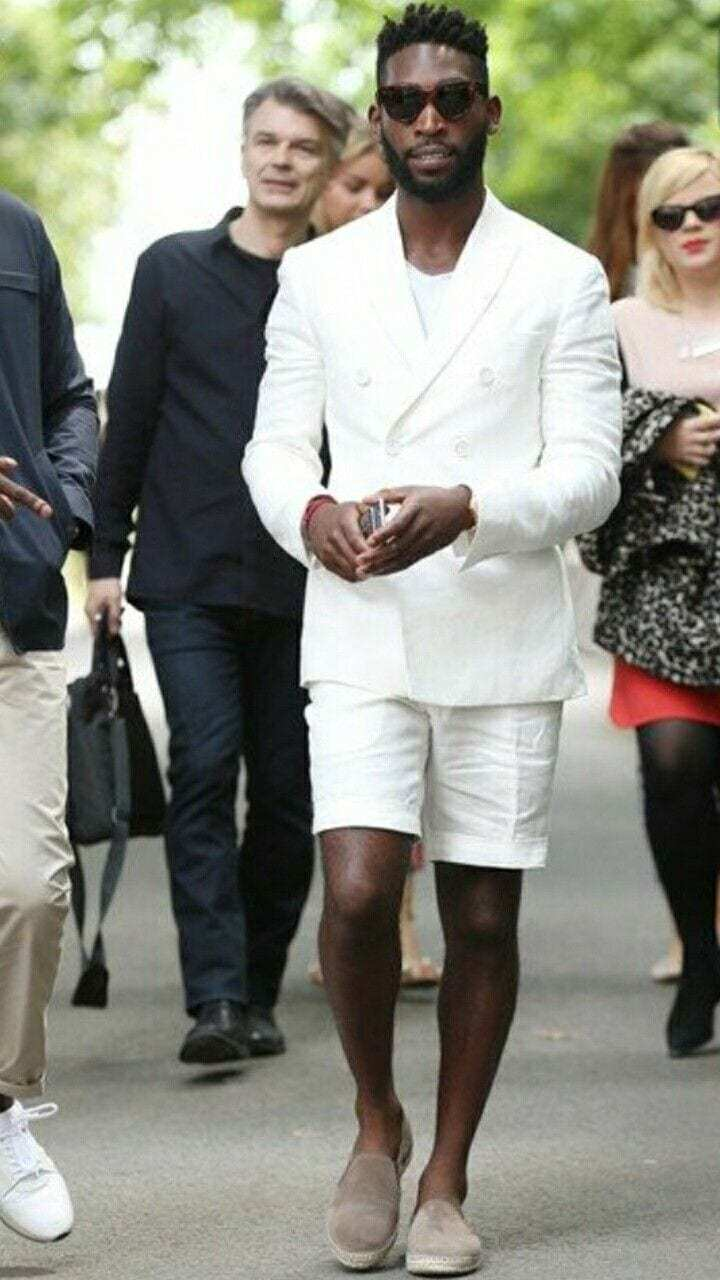Person: (314, 5, 625, 1277), (96, 78, 340, 1060), (620, 146, 720, 1050)
